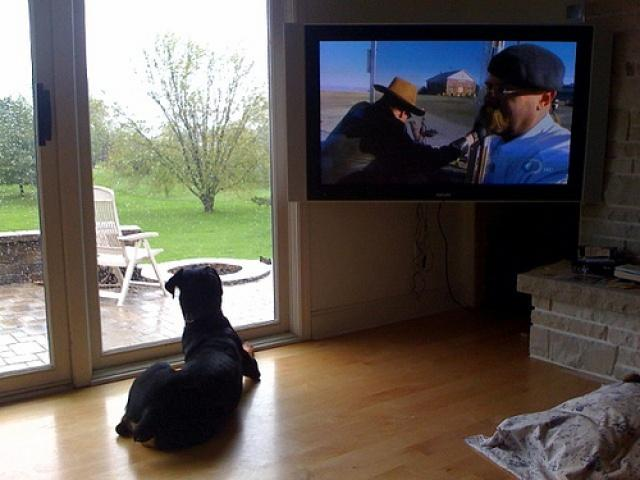AIO PC-Monitor-TV: (282, 22, 616, 203)
